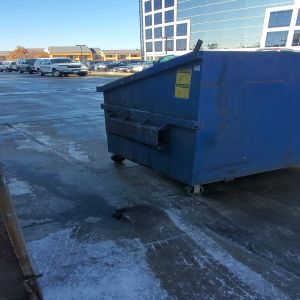Dumpster: (101, 49, 300, 198)
